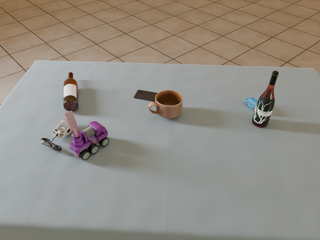bottle: (252, 71, 278, 127), (63, 72, 78, 112)
cup: (148, 90, 183, 119)
mouse: (52, 117, 77, 138)
phone: (134, 90, 158, 102)
toy_car: (65, 111, 109, 160), (244, 97, 258, 111)
